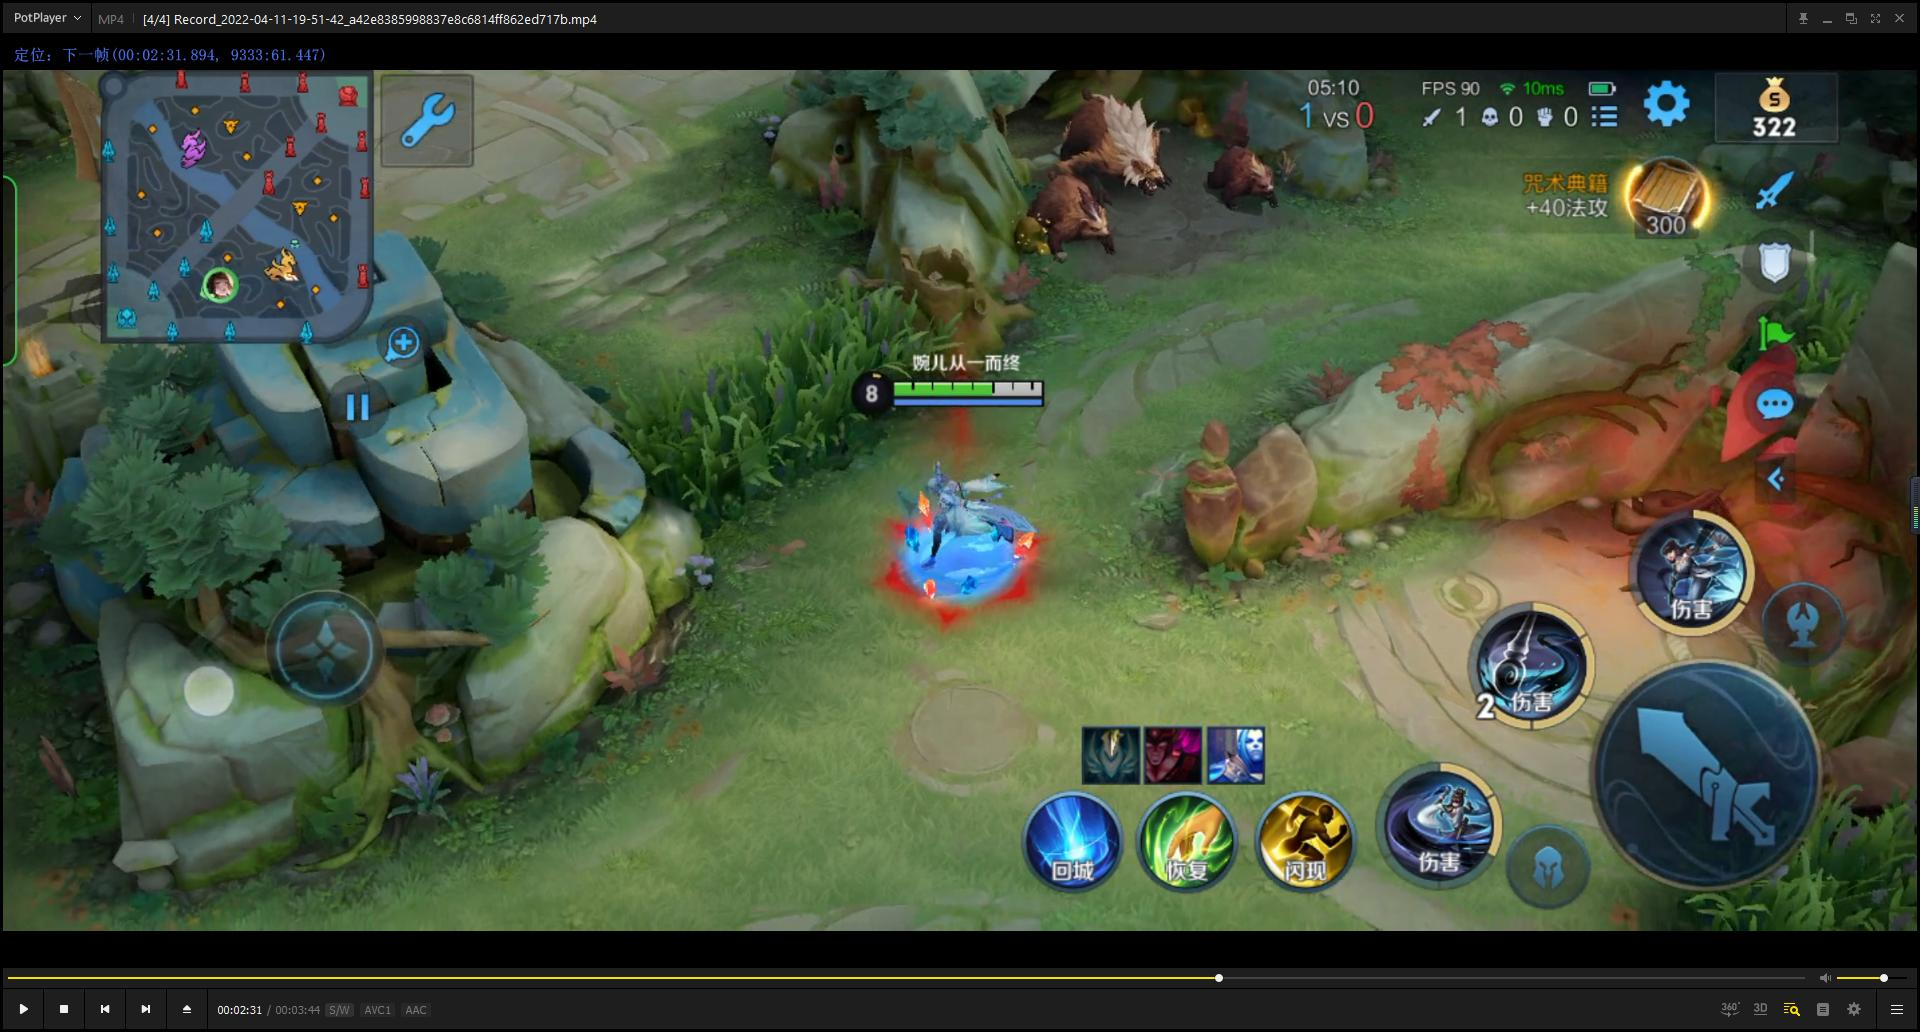Hero: (853, 446, 1060, 644)
Pig: (1036, 64, 1177, 194), (1192, 104, 1305, 236), (1003, 147, 1117, 272)
